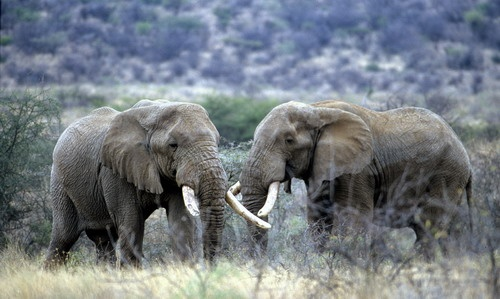elephant: (224, 98, 474, 266), (44, 98, 231, 266)
